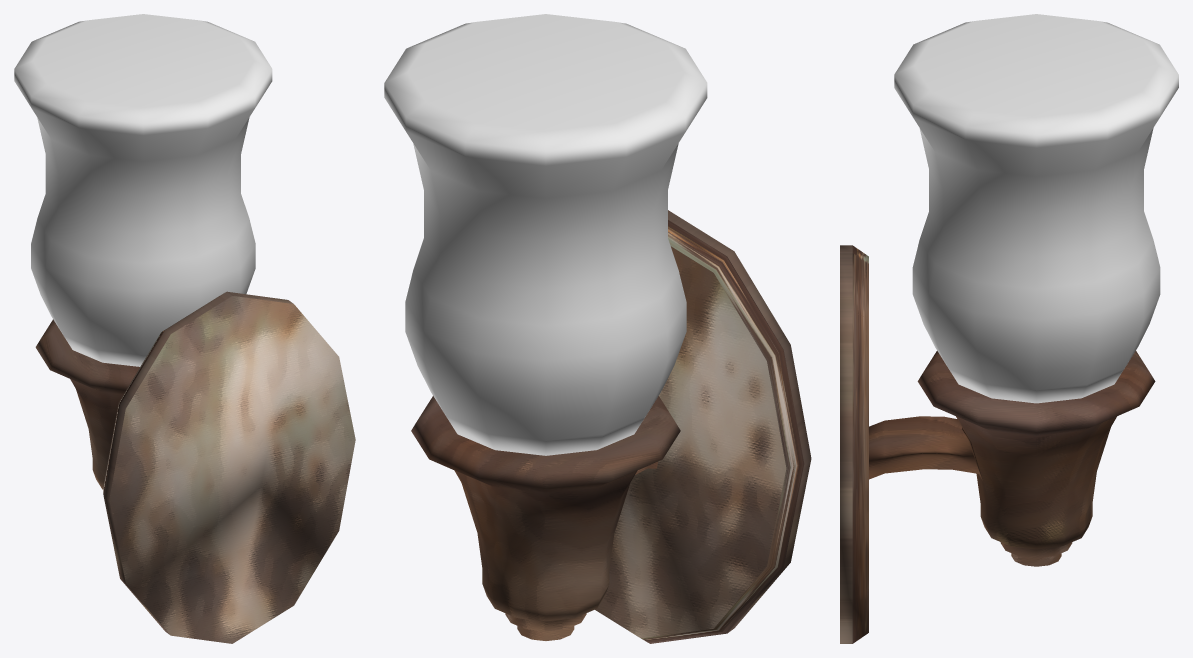
3 renders of one model, left to right at view 1: azimuth 30°, elevation 25°; view 2: azimuth 150°, elevation 25°; view 3: azimuth 270°, elevation 25°, orthographic. The views are drawn at different scales.
Parts seen in each view (by area): view 1: Cylinder.001, Cylinder.002; view 2: Cylinder.002, Cylinder.001; view 3: Cylinder.002, Cylinder.001.
Part boxes in pixels (x1=…): Cylinder.001: x1=35, y1=291, x2=355, y2=643; Cylinder.002: x1=14, y1=14, x2=272, y2=366; Cylinder.002: x1=384, y1=14, x2=707, y2=455; Cylinder.001: x1=411, y1=210, x2=811, y2=643; Cylinder.002: x1=894, y1=14, x2=1178, y2=403; Cylinder.001: x1=840, y1=245, x2=1155, y2=643.
Size of the model in its own units: 30.95 by 62.16 by 33.42.
Materials: 1 (1 with a texture image).
